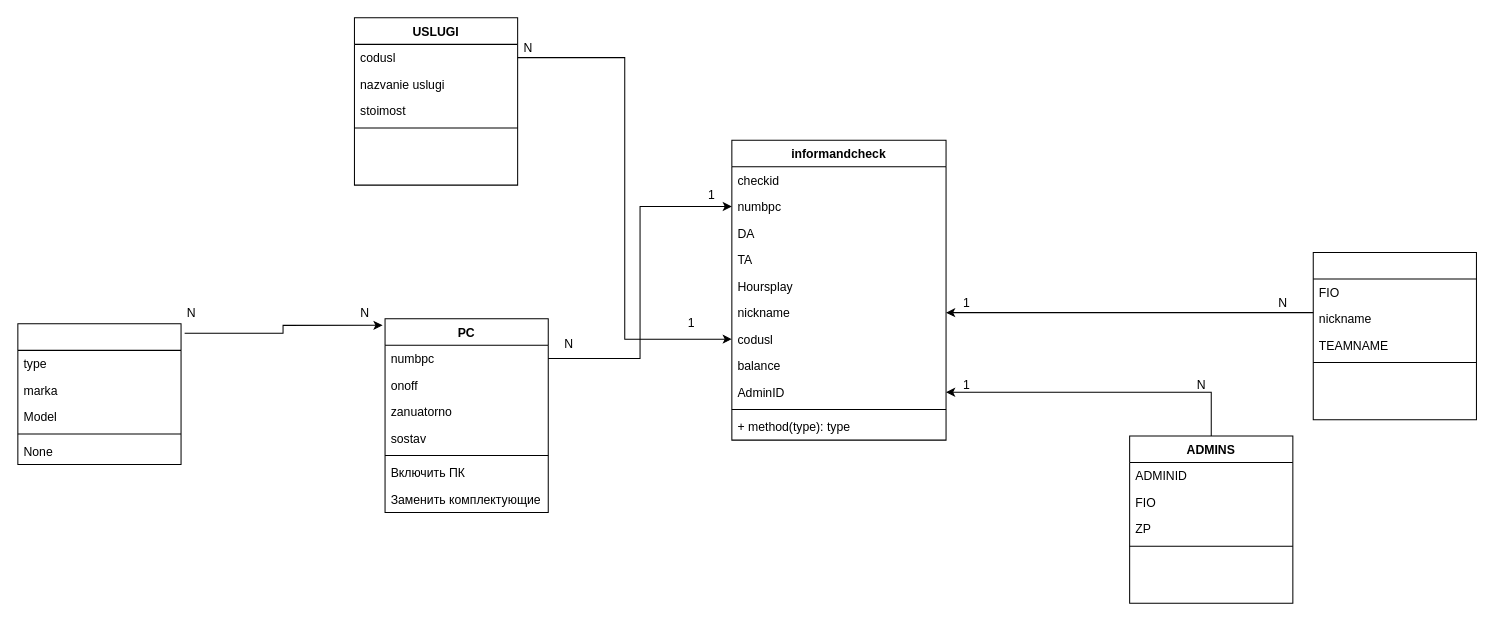
Some shapes in this 1494 by 621 pixel diagram are drawn without their labels. Here are the shapes that lost their labels. From the top down, the box of each, then its label:
(1312, 251, 1476, 420): Players
(17, 323, 181, 465): komplekt
